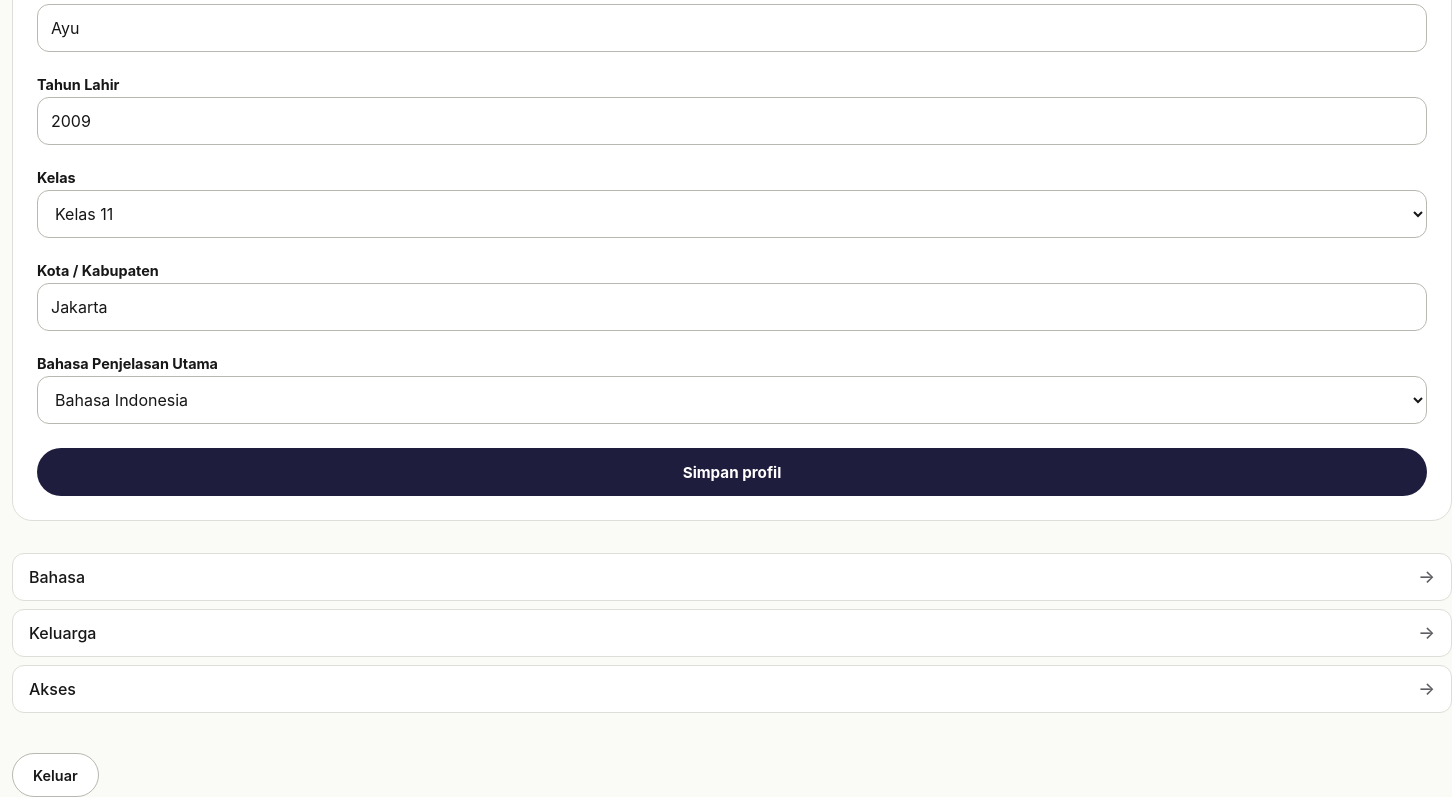
Test: ProfilePage › displays language independence notice and links
This screenshot has width=1452, height=797.
(page scrolled)
Expected: the field showing "Ayu" is shown, [37,4,1427,52]
Select "English" in the dropdown labelled "Bahasa Penjelasan Utama" at (732, 400), box [37,376,1427,424]
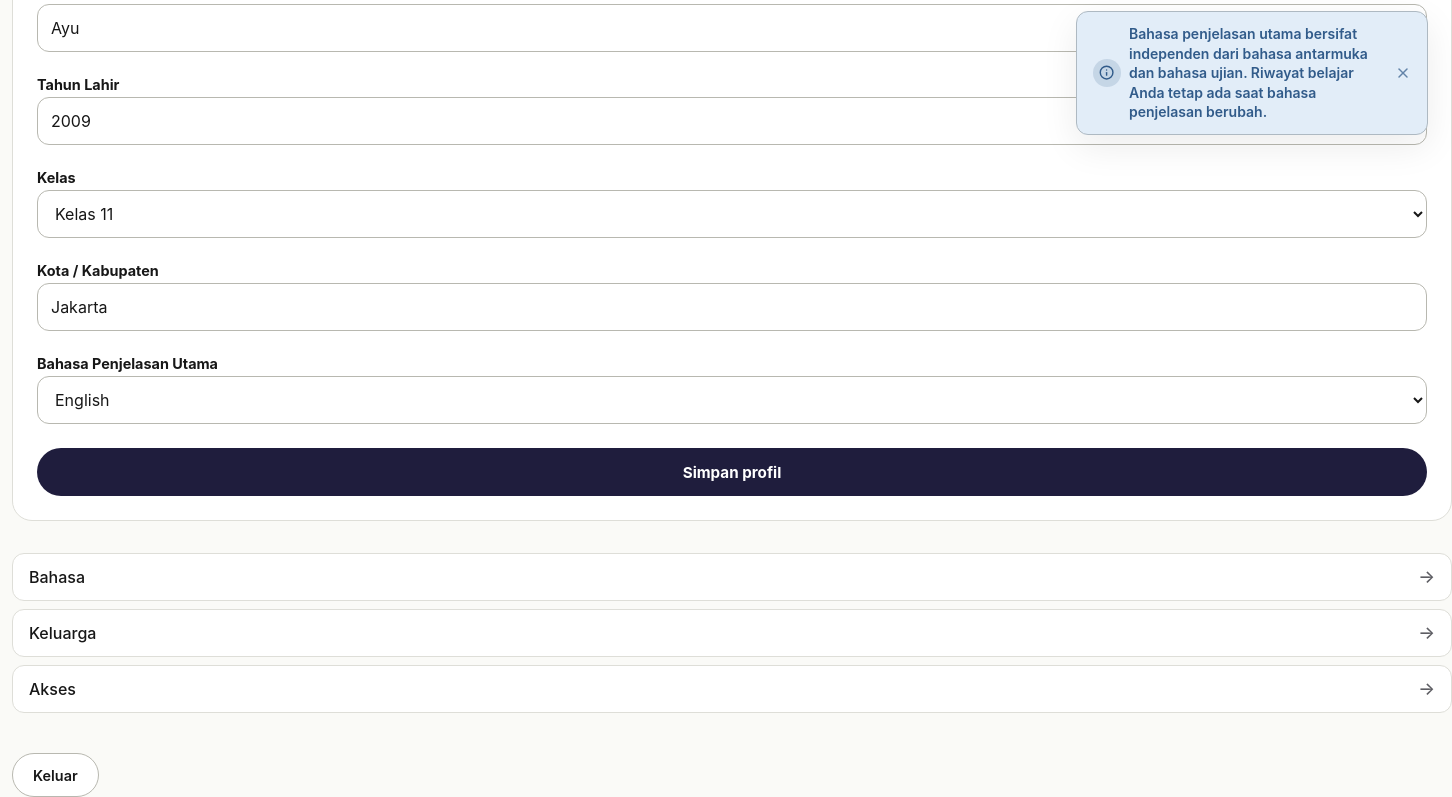
Expected: the text "independen" is shown, [1129,25,1368,120]
